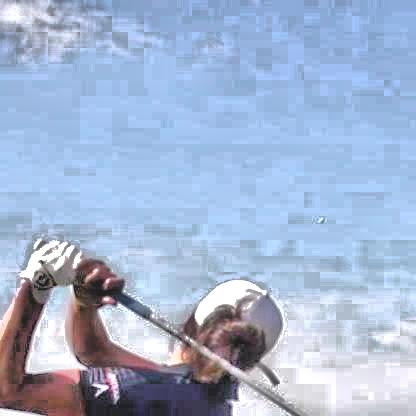golfball: (315, 214, 323, 221)
